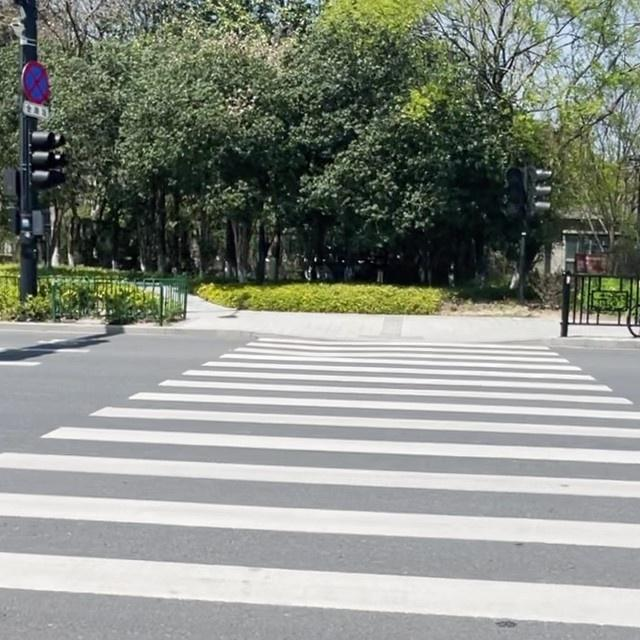curb: (0, 321, 260, 340), (499, 339, 639, 349)
